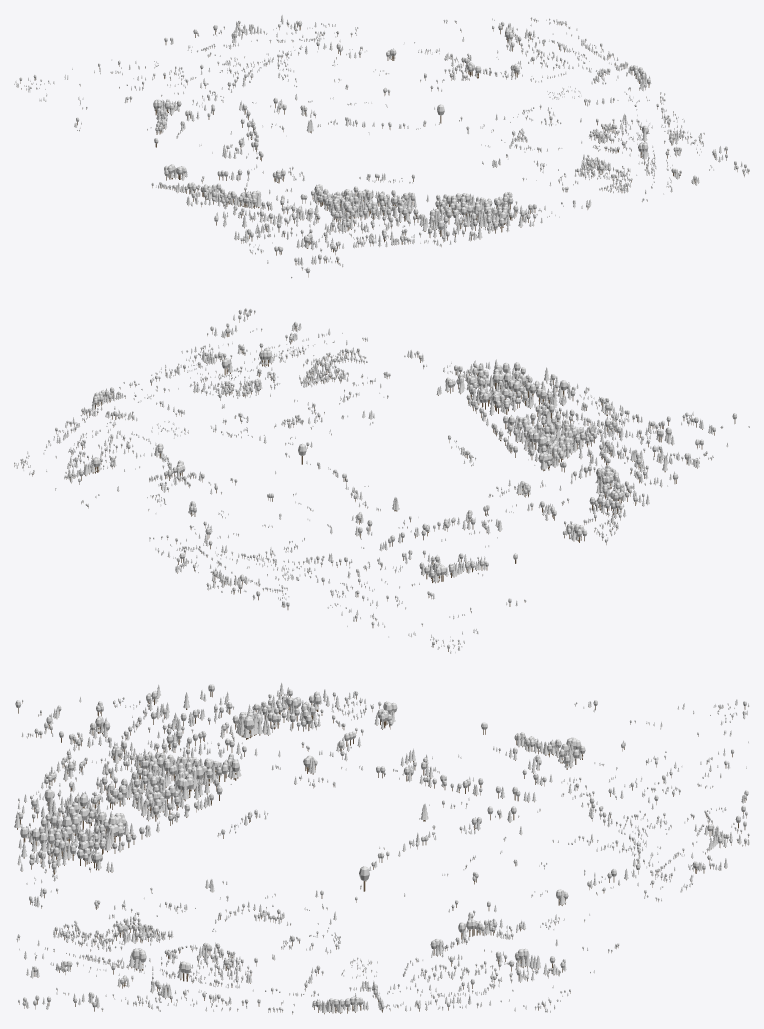
Rendered from stromy.glb.
The picture shows the model from 3 angles, top to bottom: view 1: azimuth 30°, elevation 25°; view 2: azimuth 150°, elevation 25°; view 3: azimuth 270°, elevation 25°; orthographic projection. The views are drawn at different scales.
Visible parts, largest first — view 1: Stromy_Listnate_04_07, Stromy_Ihlicnate_04_07; view 2: Stromy_Listnate_04_07, Stromy_Ihlicnate_04_07; view 3: Stromy_Listnate_04_07, Stromy_Ihlicnate_04_07.
Boxes of the visible parts, left/top/right/bottom form: Stromy_Listnate_04_07: left=19, top=17, right=749, bottom=278; Stromy_Ihlicnate_04_07: left=14, top=15, right=748, bottom=267; Stromy_Listnate_04_07: left=14, top=308, right=749, bottom=651; Stromy_Ihlicnate_04_07: left=14, top=309, right=728, bottom=653; Stromy_Listnate_04_07: left=15, top=684, right=749, bottom=1014; Stromy_Ihlicnate_04_07: left=14, top=682, right=749, bottom=1014.
Size of the model in its own units: 1006 by 47.48 by 1006.
